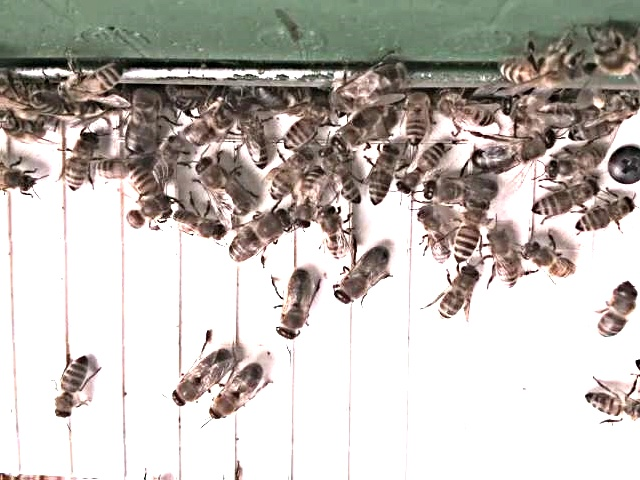Drone: (466, 127, 558, 179), (168, 345, 232, 411), (225, 208, 294, 269), (206, 364, 269, 426), (330, 245, 391, 309), (194, 157, 250, 220), (273, 267, 313, 345), (121, 85, 158, 160), (420, 174, 499, 207)
Worker: (392, 141, 446, 200), (543, 140, 610, 182), (526, 183, 602, 219), (446, 205, 490, 267), (62, 128, 100, 198), (482, 228, 522, 294), (51, 355, 88, 426), (570, 198, 636, 236), (233, 112, 272, 176), (578, 388, 640, 428), (519, 244, 578, 285), (434, 270, 476, 327), (171, 208, 228, 248), (364, 142, 395, 213), (415, 207, 449, 268)
